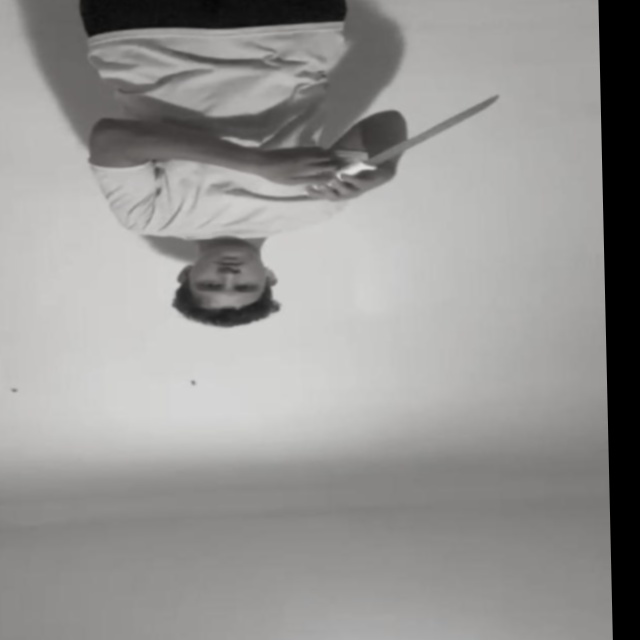Sharp-Object: (362, 94, 497, 167)
